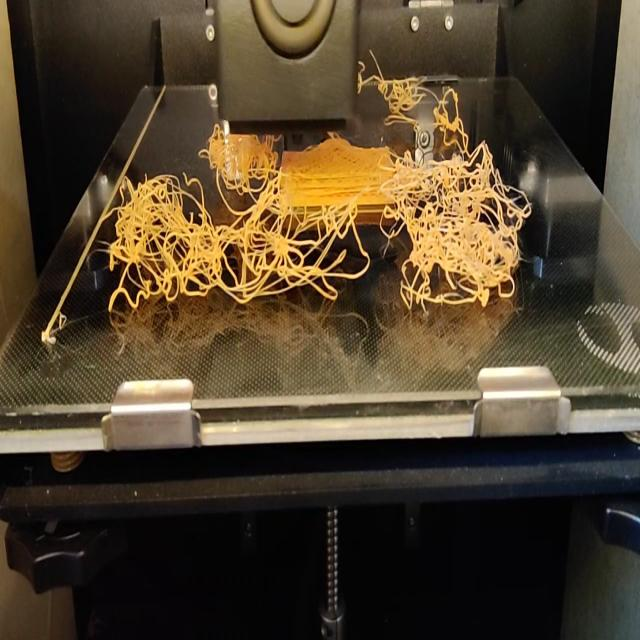spaghetti: (100, 125, 536, 322), (356, 42, 462, 124)
